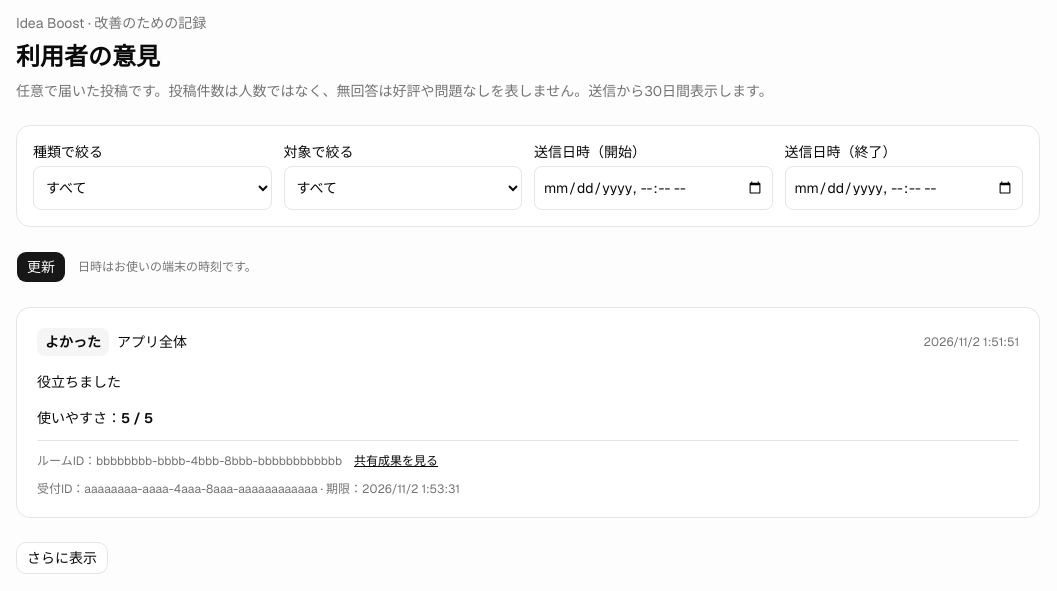
Test case: 続きの取得が401で拒否された場合は既読本文と成果リンクも消す
Expected: the text "役立ちました" is shown, [37, 373, 121, 391]
Click the button "さらに表示": (62, 558) [16, 542, 108, 574]
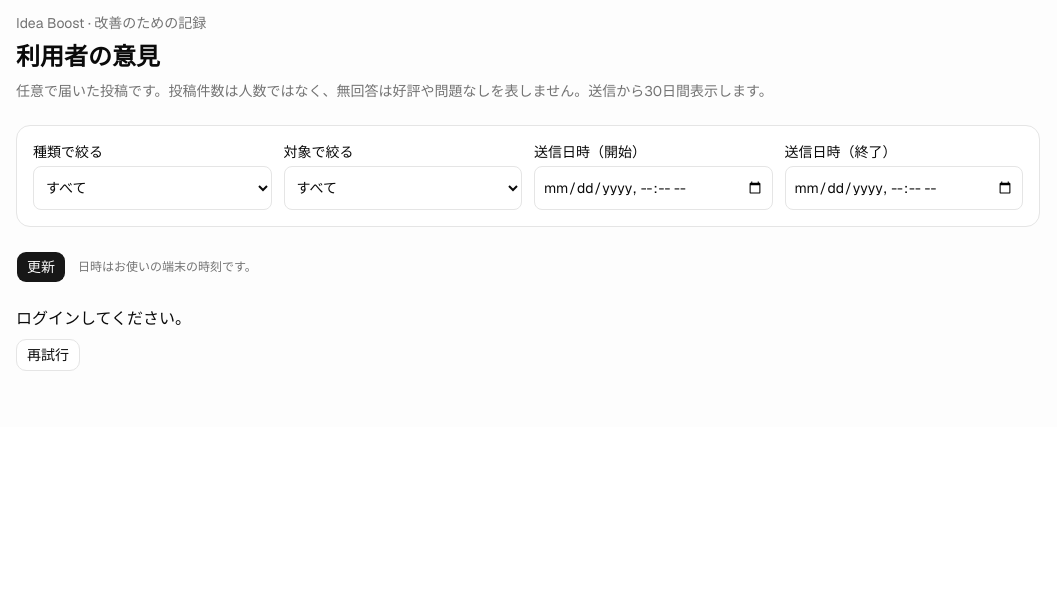
Result: the text "ログインしてください。" is shown at [16, 308, 191, 329]
Result: the text "役立ちました" is gone
Result: the link "共有成果を見る" is gone
